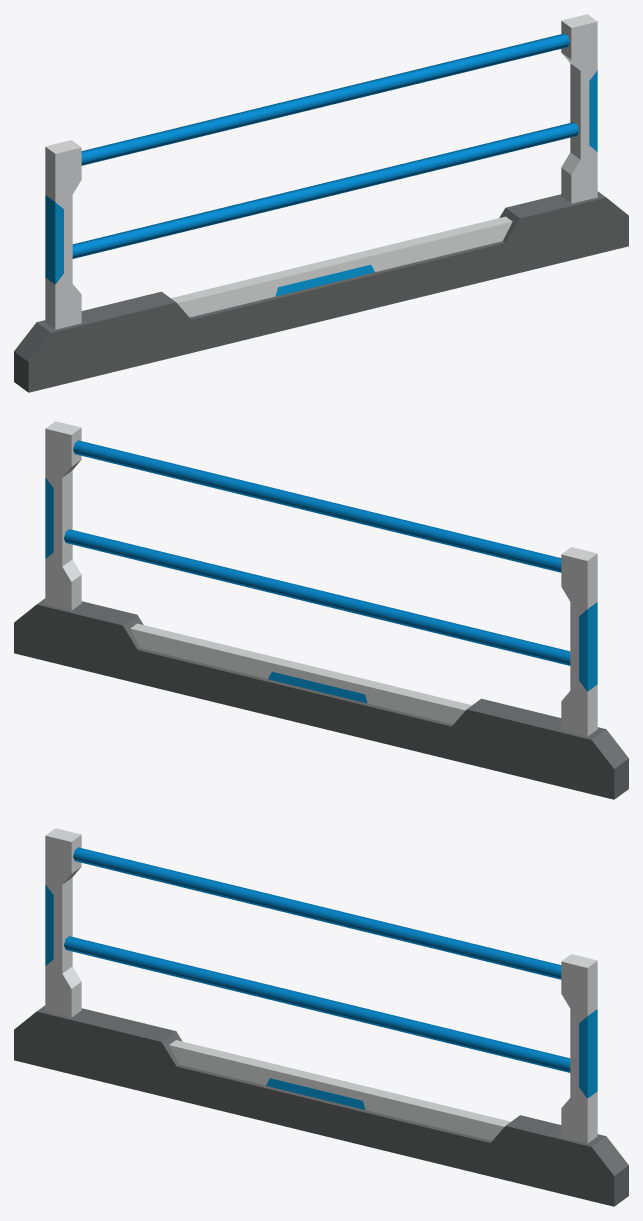
Rendered from Fence_type_A_006.fbx.
The picture shows the model from 3 angles, top to bottom: view 1: azimuth 30°, elevation 25°; view 2: azimuth 150°, elevation 25°; view 3: azimuth 330°, elevation 25°; orthographic projection.
Parts seen in each view (by area): view 1: Fence_type_A_006; view 2: Fence_type_A_006; view 3: Fence_type_A_006.
Part boxes in pixels (x1,y1,x2,y2): Fence_type_A_006: (14,14,628,392); Fence_type_A_006: (14,421,628,799); Fence_type_A_006: (14,828,628,1206).
Size of the model in its own units: 389 by 16.53 by 142.
